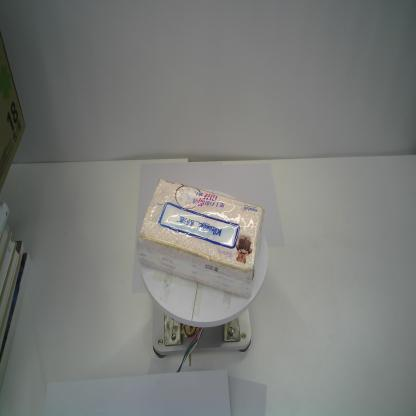Tissue: (136, 178, 265, 299)
